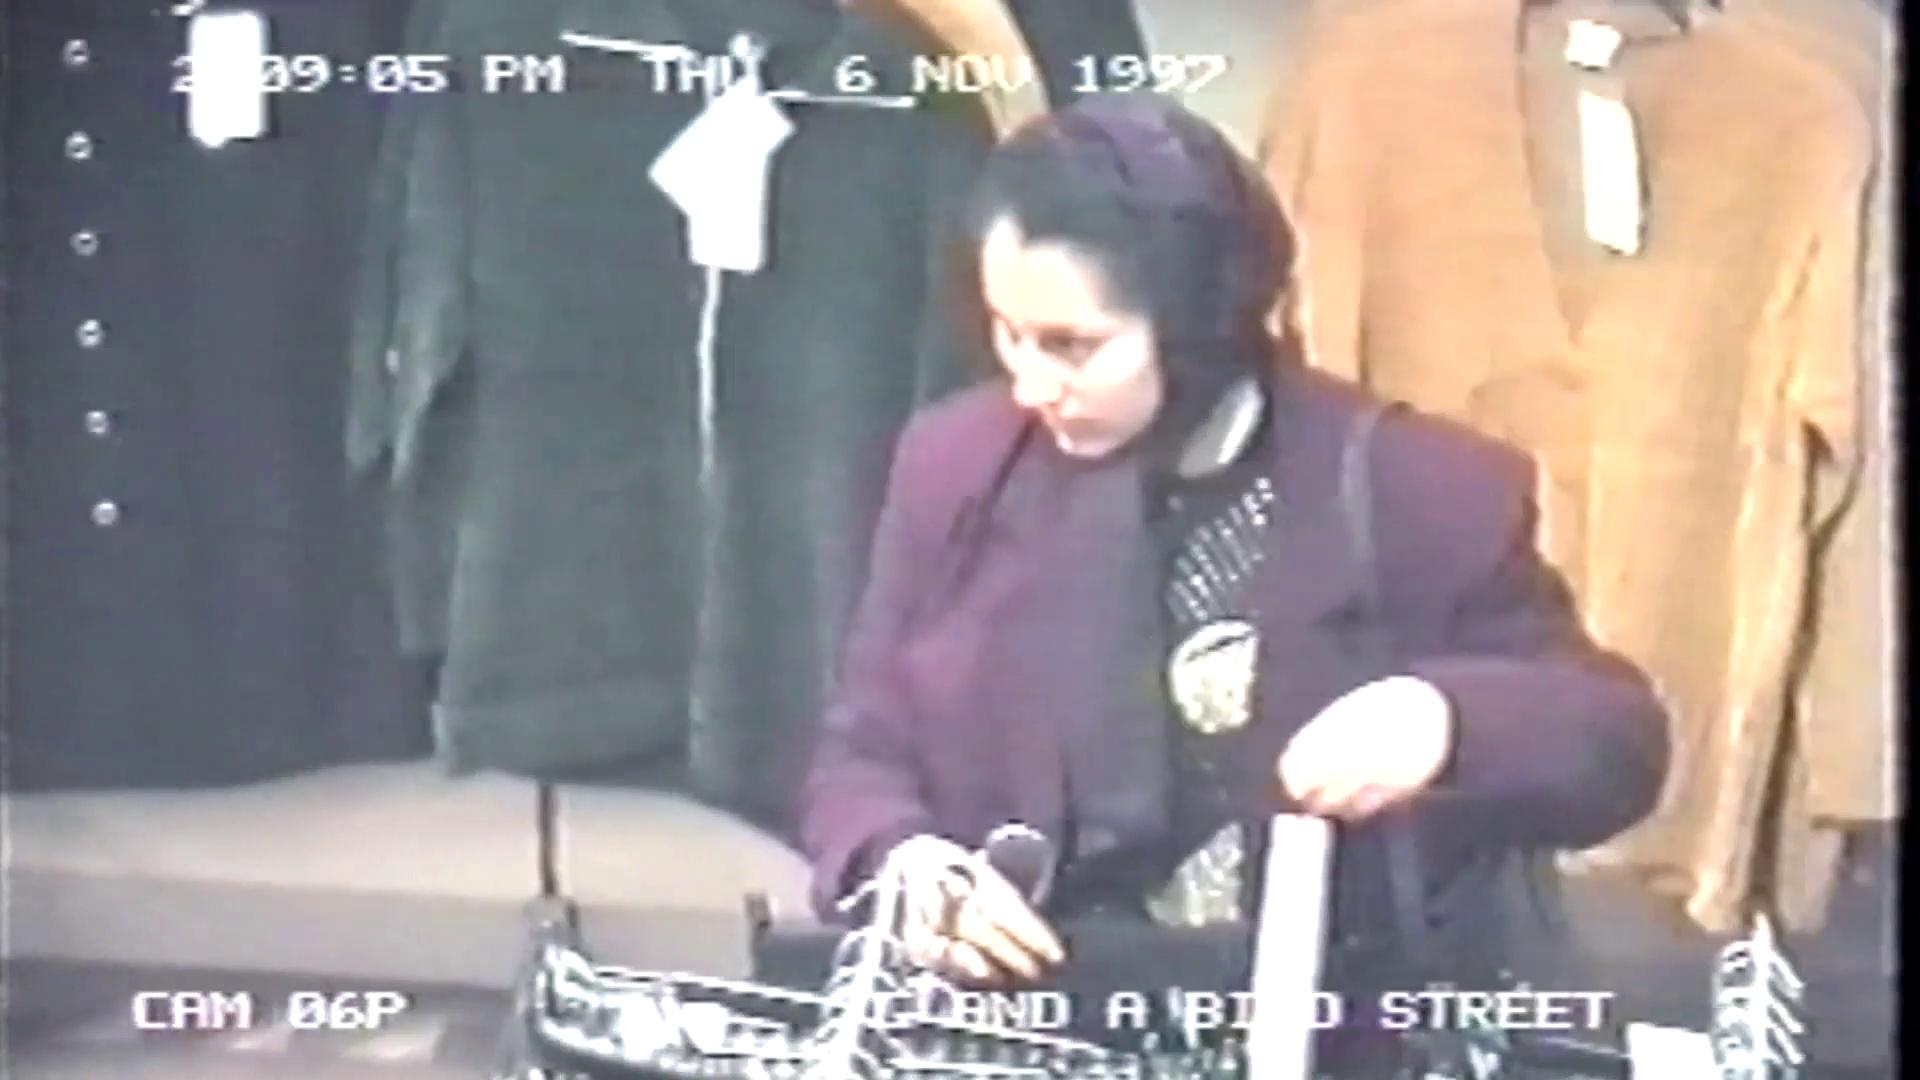1: (906, 870, 1200, 1019)
2: (419, 0, 1600, 1080)
persone: (1288, 827, 1605, 1051)
